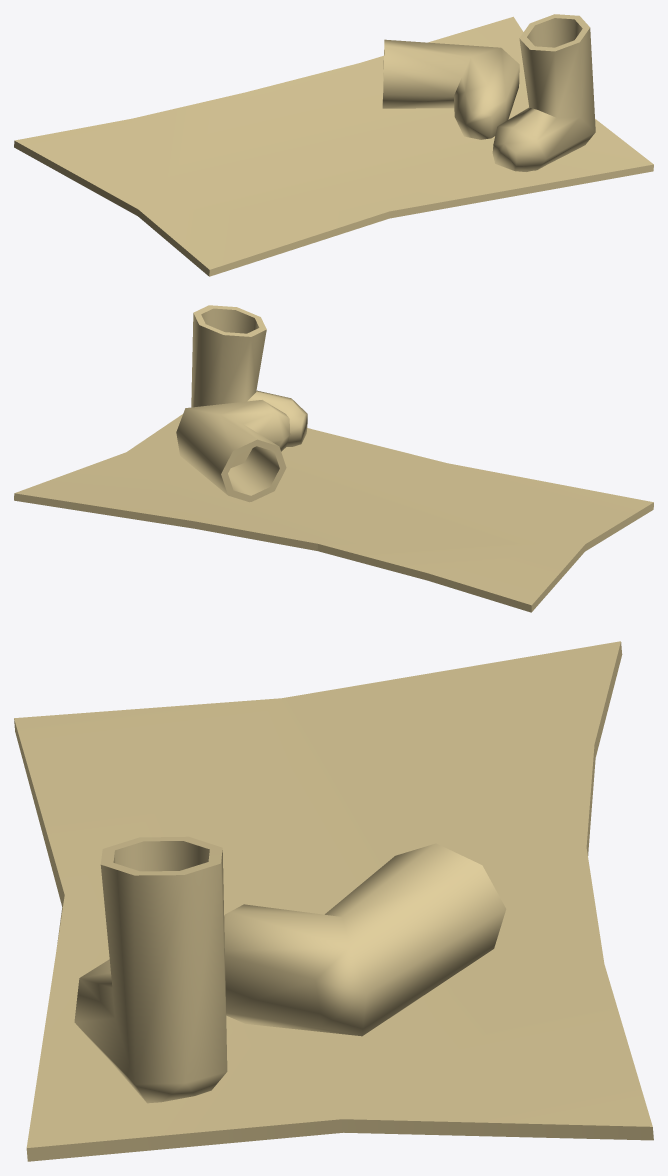
The model's file is kovrik_valenki.fbx.
3 renders of one model, top to bottom at view 1: azimuth 30°, elevation 25°; view 2: azimuth 150°, elevation 25°; view 3: azimuth 270°, elevation 25°, orthographic. The views are drawn at different scales.
Visible parts, largest first — view 1: kovrik_valenki1; view 2: kovrik_valenki1; view 3: kovrik_valenki1.
Boxes of the visible parts, <box> form: kovrik_valenki1: <box>14,14,653,276</box>; kovrik_valenki1: <box>14,305,653,612</box>; kovrik_valenki1: <box>14,641,653,1161</box>.
Bounding box in the file's own units: 129 × 32.55 × 73.76.
